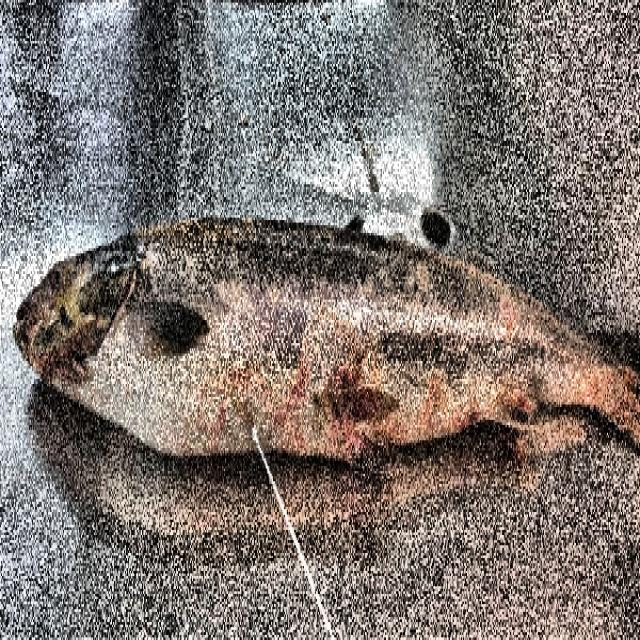mild_red: (49, 220, 639, 458)
